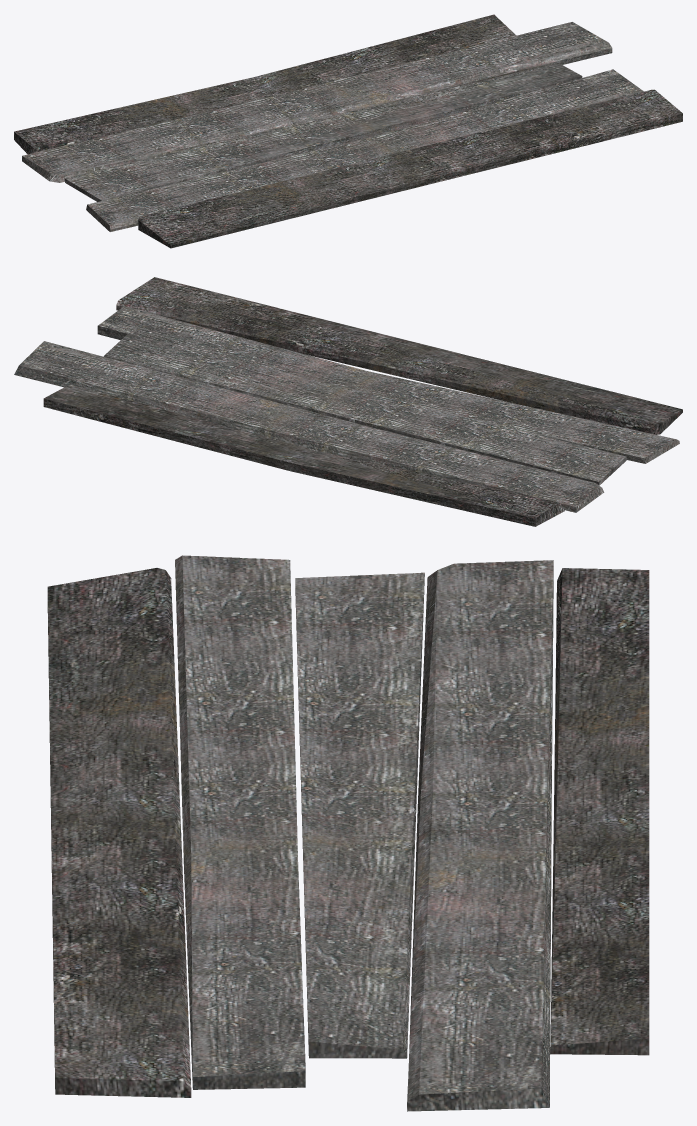
File: SM_short_boards_b.fbx
The picture shows the model from 3 angles, top to bottom: view 1: azimuth 30°, elevation 25°; view 2: azimuth 150°, elevation 25°; view 3: azimuth 270°, elevation 25°; orthographic projection. The views are drawn at different scales.
Visible parts, largest first — view 1: SM_short_boards_b; view 2: SM_short_boards_b; view 3: SM_short_boards_b.
Boxes of the visible parts, x1,y1,x2,y2 form: SM_short_boards_b: [14, 14, 682, 248]; SM_short_boards_b: [14, 277, 682, 526]; SM_short_boards_b: [47, 555, 649, 1111].
Bounding box in the file's own units: 407 × 189 × 11.93.
Materials: 1 (1 with a texture image).
